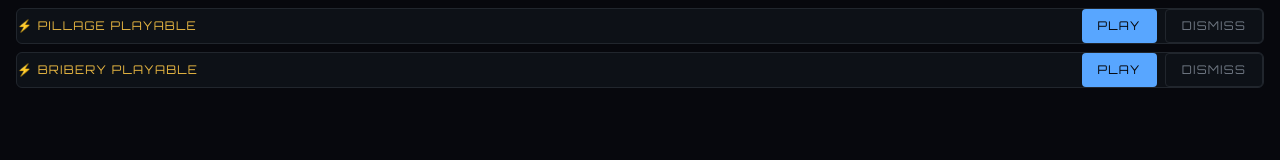
AbilityNotificationBar › hides a notification after DISMISS is clicked
The width and height of the screenshot is (1280, 160).
Click the button "DISMISS" in the row of "PILLAGE". click: (1214, 26)
box: [1165, 9, 1263, 43]
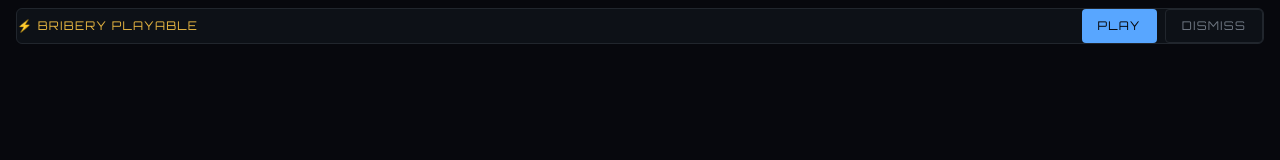
Expected: the text "⚡ BRIBERY PLAYABLE" is shown, [17, 18, 198, 34]
Expected: the text "PILLAGE" is gone
